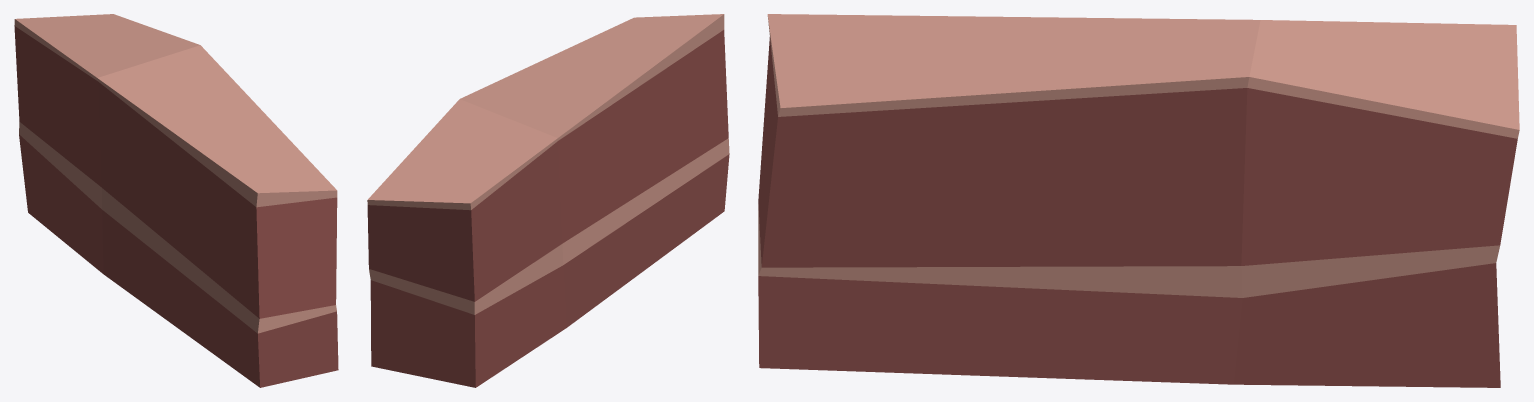
File: porkBellyCut02.fbx
3 renders of one model, left to right at view 1: azimuth 30°, elevation 25°; view 2: azimuth 150°, elevation 25°; view 3: azimuth 270°, elevation 25°, orthographic. The views are drawn at different scales.
Parts seen in each view (by area): view 1: porkBellyCut02; view 2: porkBellyCut02; view 3: porkBellyCut02.
Boxes of the visible parts, x1,y1,x2,y2 form: porkBellyCut02: (14, 14, 338, 387); porkBellyCut02: (367, 14, 729, 387); porkBellyCut02: (758, 14, 1519, 387).
Bounding box in the file's own units: 6.38 × 11.22 × 25.14.
1 material, 1 textured.
